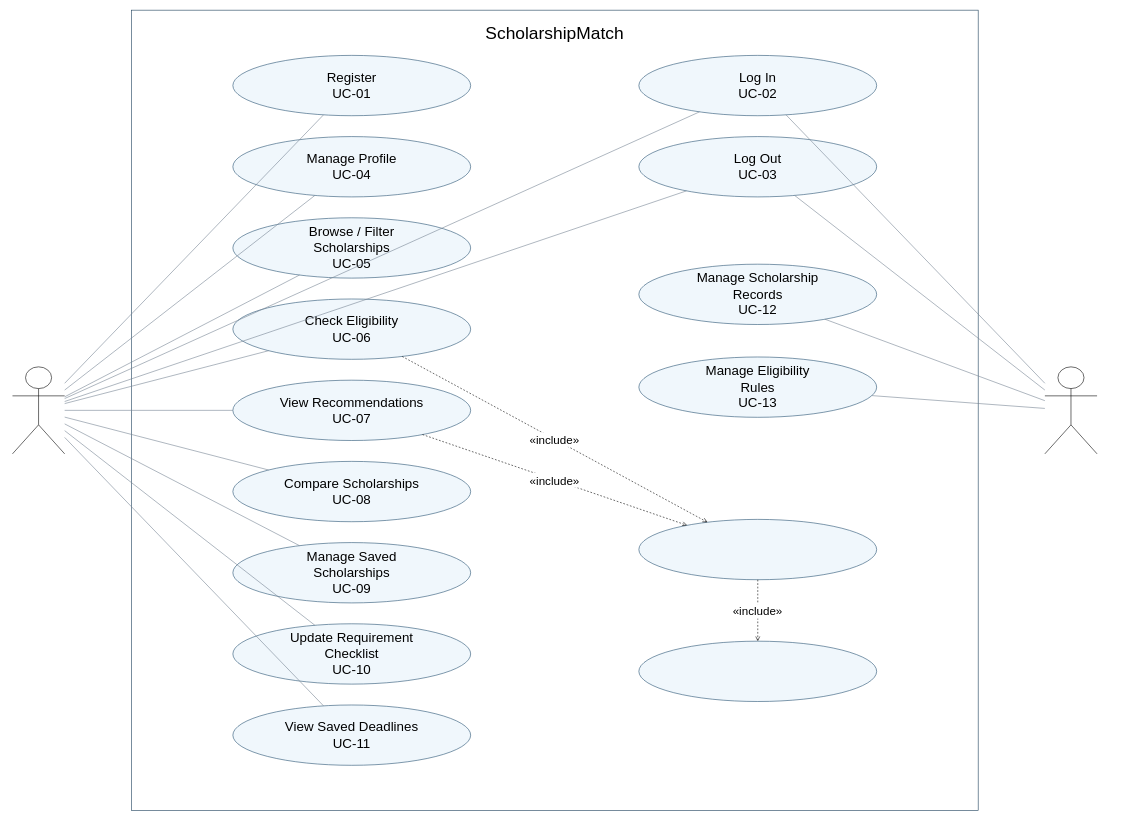
Image size: 1122x821. Some labels were removed from this diagram. Here are the shapes that lost their labels. From the top down, the centre of each, then its label:
(38,410): Applicant
(1070,410): Administrator
(757,549): Evaluate Mandatory Criteria UC-14
(757,671): Generate Eligibility Explanation UC-15
